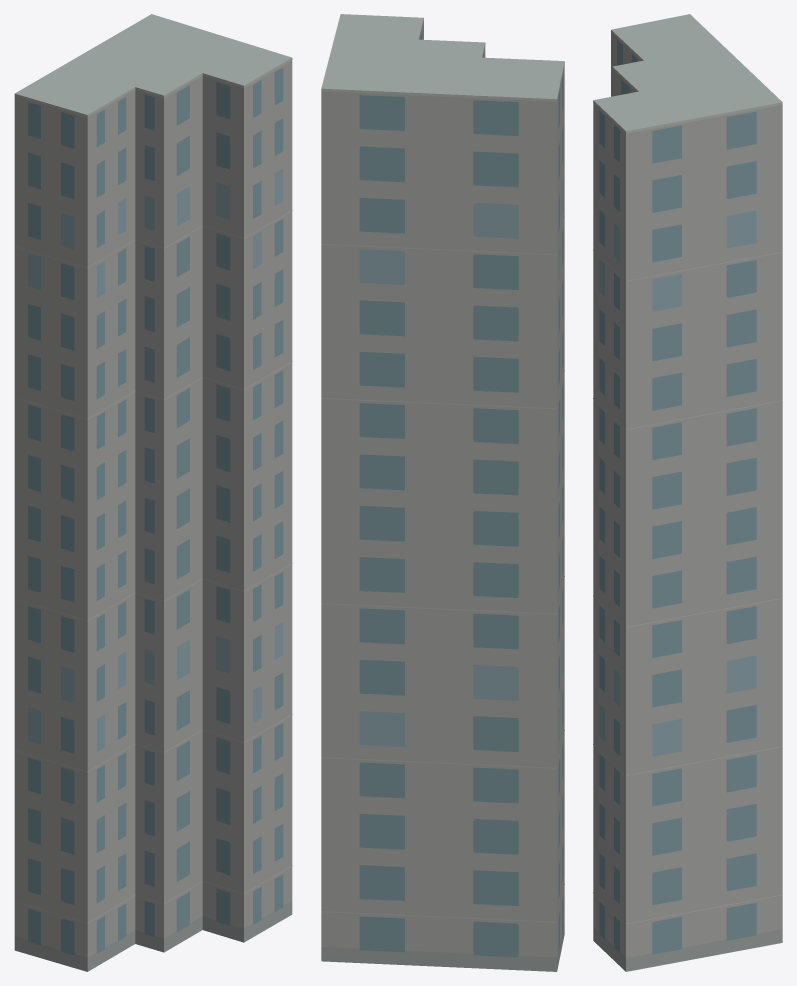
File: survey-upis-32864113.glb
The picture shows the model from 3 angles, left to right: view 1: azimuth 30°, elevation 25°; view 2: azimuth 150°, elevation 25°; view 3: azimuth 270°, elevation 25°; orthographic projection. The views are drawn at different scales.
Visible parts, largest first — view 1: survey-upis-32864113.tmp; view 2: survey-upis-32864113.tmp; view 3: survey-upis-32864113.tmp.
Part boxes in pixels (box(x1,y1,x2,y2)): survey-upis-32864113.tmp: box(14, 14, 292, 971); survey-upis-32864113.tmp: box(321, 14, 564, 971); survey-upis-32864113.tmp: box(593, 14, 782, 971).
Size of the model in its own units: 23.95 by 79.9 by 16.34.
